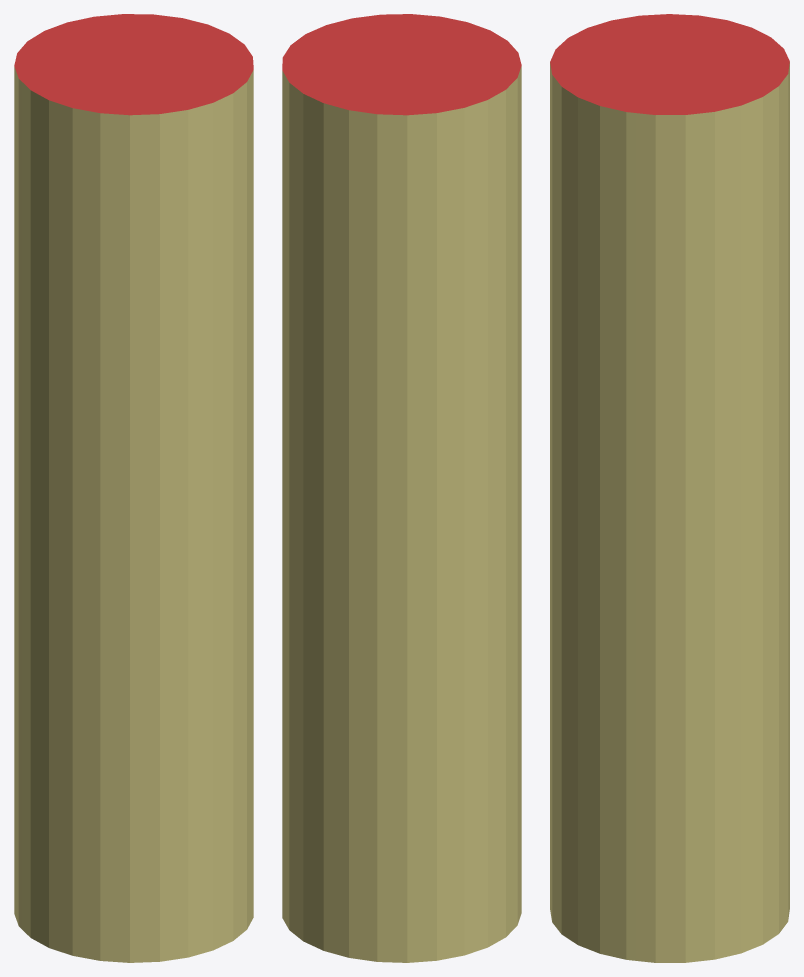
3 views of the same model, side by side, from view 1: azimuth 30°, elevation 25°; view 2: azimuth 150°, elevation 25°; view 3: azimuth 270°, elevation 25° (orthographic).
Size of the model in its own units: 3.36 by 3.36 by 13.11.
